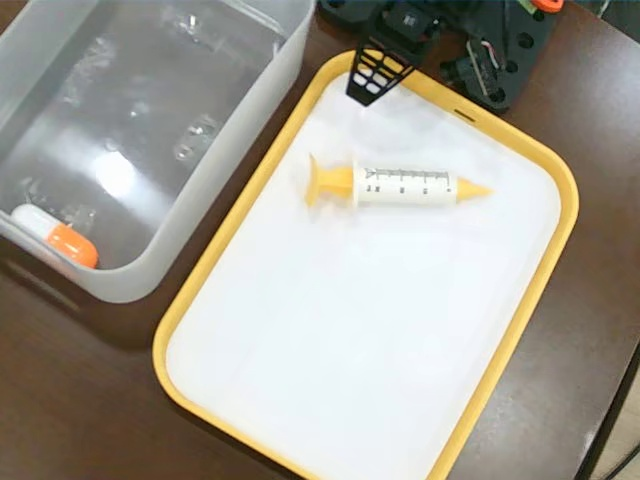pill: (7, 200, 100, 271)
syringe: (301, 148, 498, 214)
